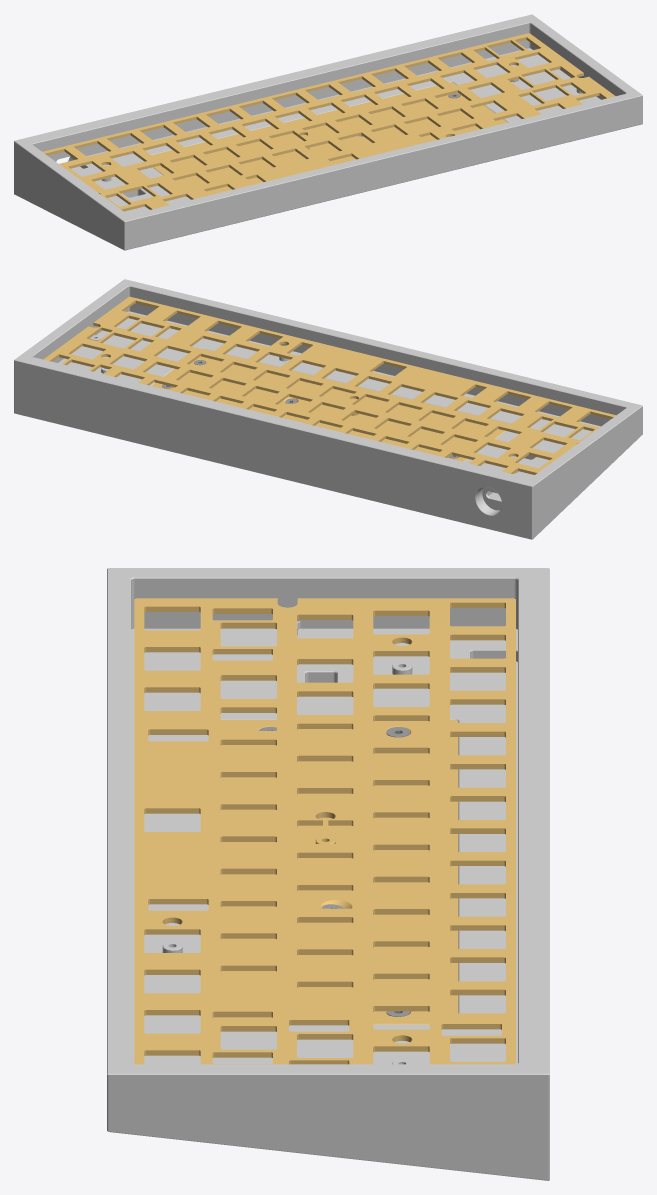
File: tofu.fbx
The picture shows the model from 3 angles, top to bottom: view 1: azimuth 30°, elevation 25°; view 2: azimuth 150°, elevation 25°; view 3: azimuth 270°, elevation 25°; orthographic projection. The views are drawn at different scales.
Visible parts, largest first — view 1: Case, Plate, Weight; view 2: Case, Plate, Weight; view 3: Case, Plate, Weight.
Boxes of the visible parts, bbox=[...] form: Case: bbox=[14, 14, 642, 250]; Plate: bbox=[42, 33, 615, 211]; Weight: bbox=[151, 82, 507, 194]; Case: bbox=[14, 279, 642, 539]; Plate: bbox=[43, 296, 615, 474]; Weight: bbox=[151, 348, 510, 461]; Case: bbox=[107, 568, 549, 1180]; Plate: bbox=[134, 598, 515, 1064]; Weight: bbox=[212, 719, 458, 1024].
Size of the model in its own units: 299 by 29.55 by 111.
